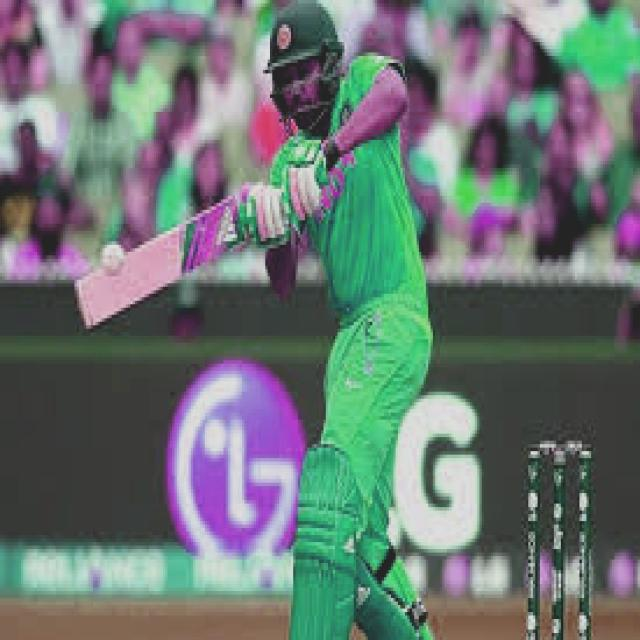toe: (69, 282, 98, 332)
